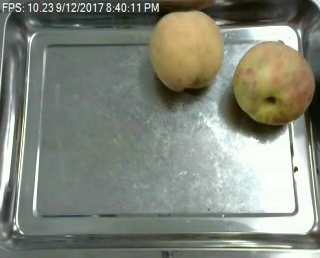Peach: (232, 40, 315, 126), (150, 9, 224, 93)
